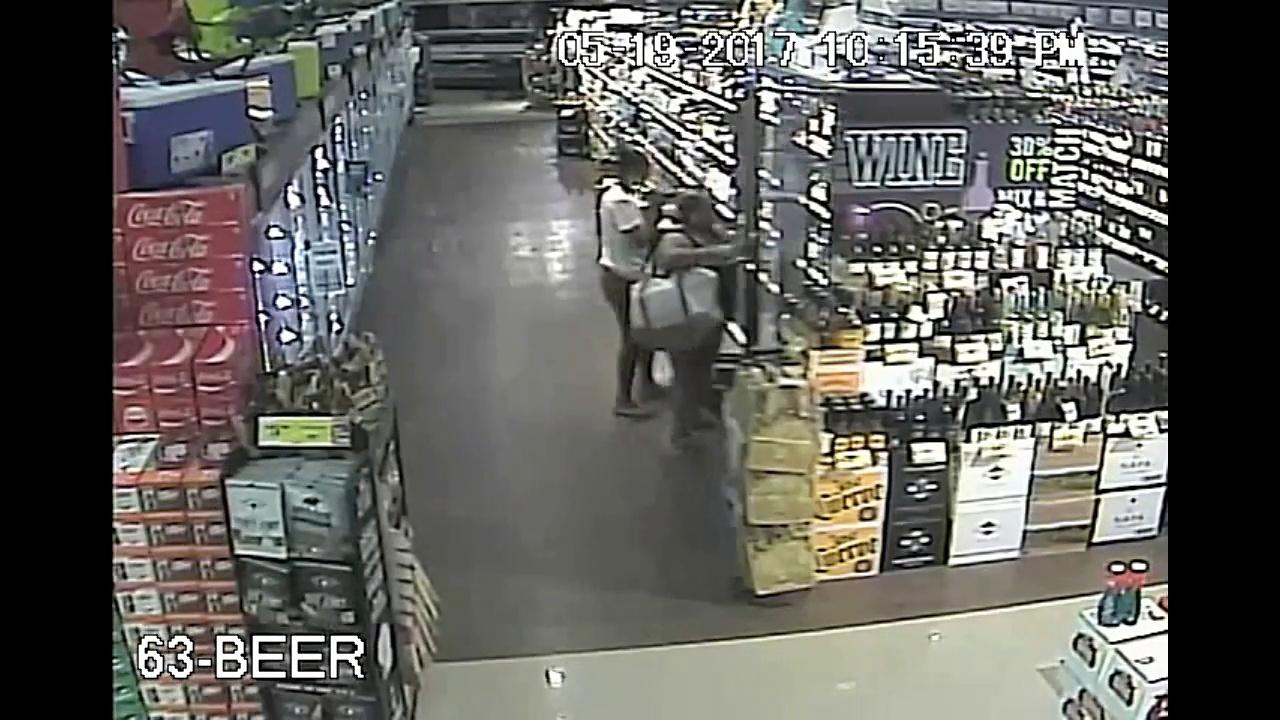Customer-Bagpack: (622, 268, 718, 343)
Regular: (622, 156, 841, 456), (573, 131, 670, 291)
